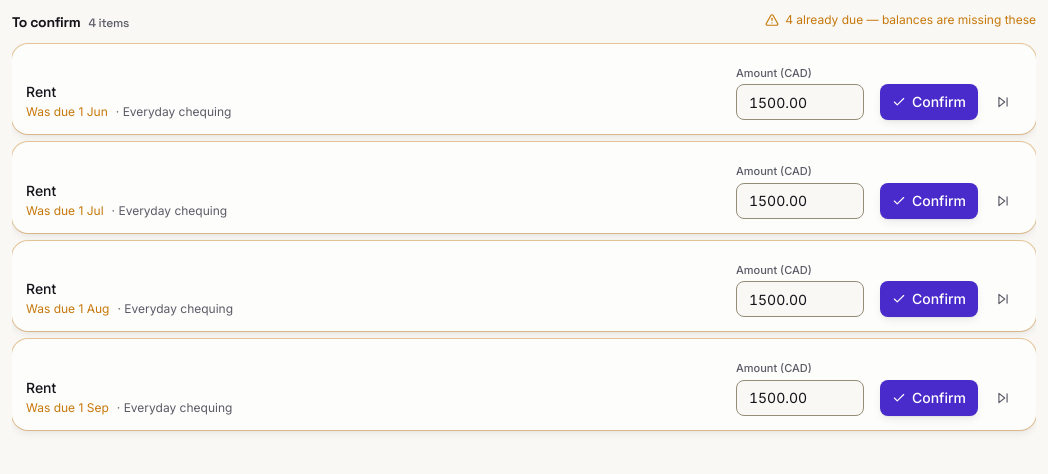
Scenario: confirming › refuses an amount of nothing, and says why
Replace the text in the field labelled "Amount (CAD)" in the row of "1 Jun" with "0" at x=800, y=102, box [736, 84, 864, 120]
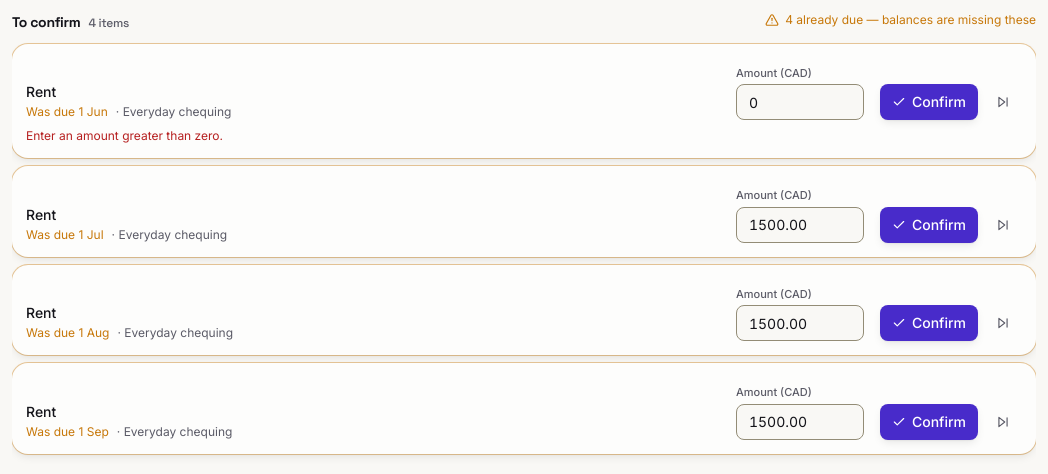
Expected: the button "Confirm" in the row of "1 Jun" is disabled, [880, 84, 978, 120]
Expected: the message shows "greater than zero", [26, 128, 223, 143]
